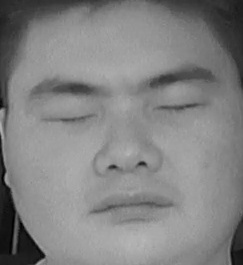blink: (151, 89, 208, 125), (43, 101, 99, 136)
mouth: (89, 181, 180, 225)
